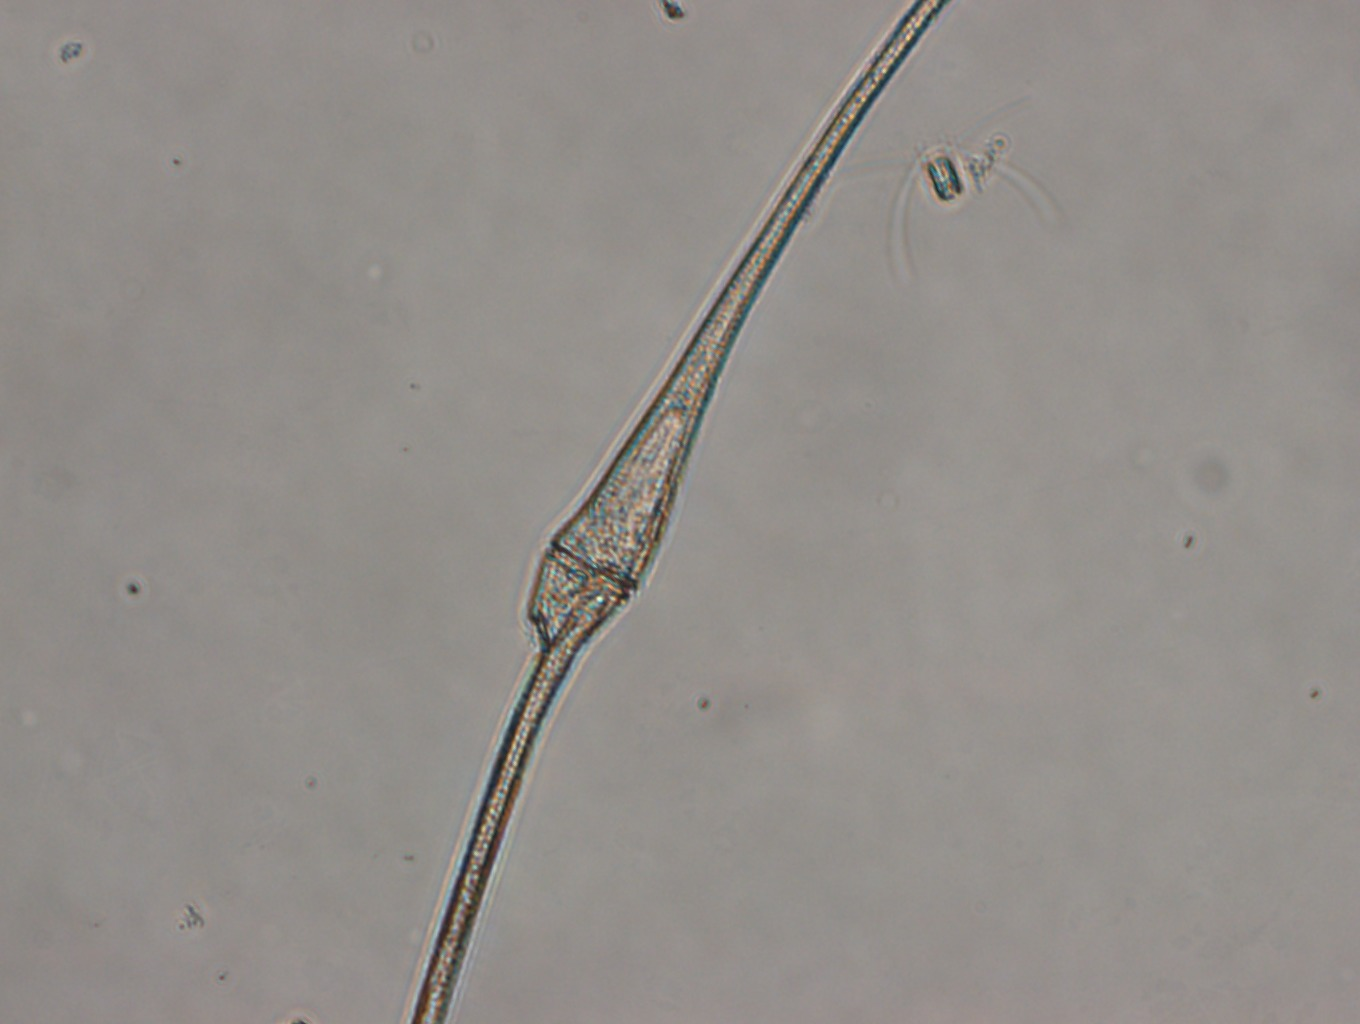ceratium fusus: (411, 1, 946, 1024)
